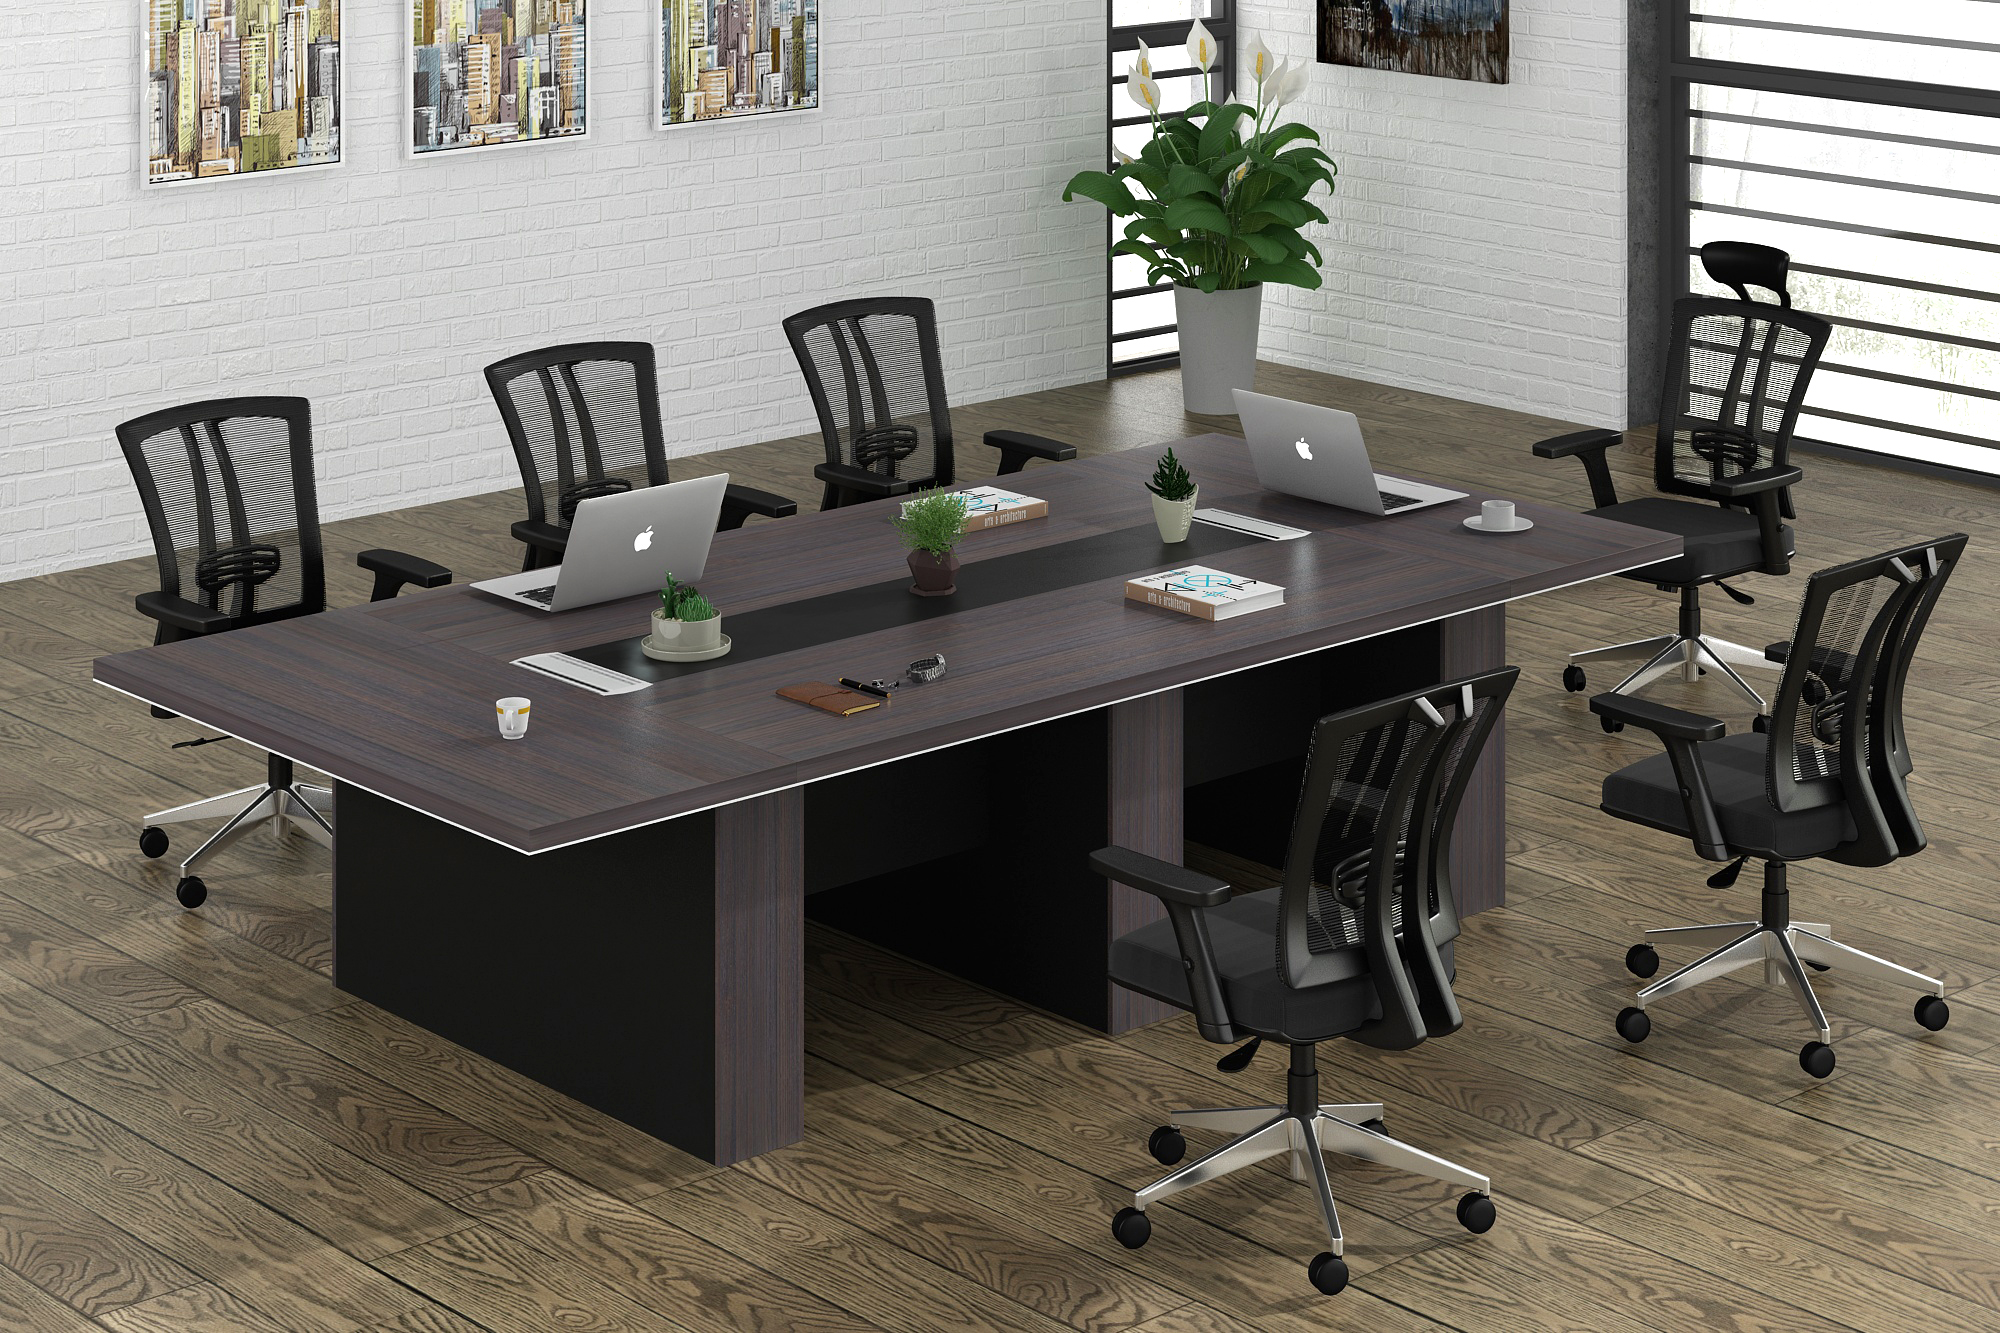conference_table: (91, 430, 1682, 1166)
